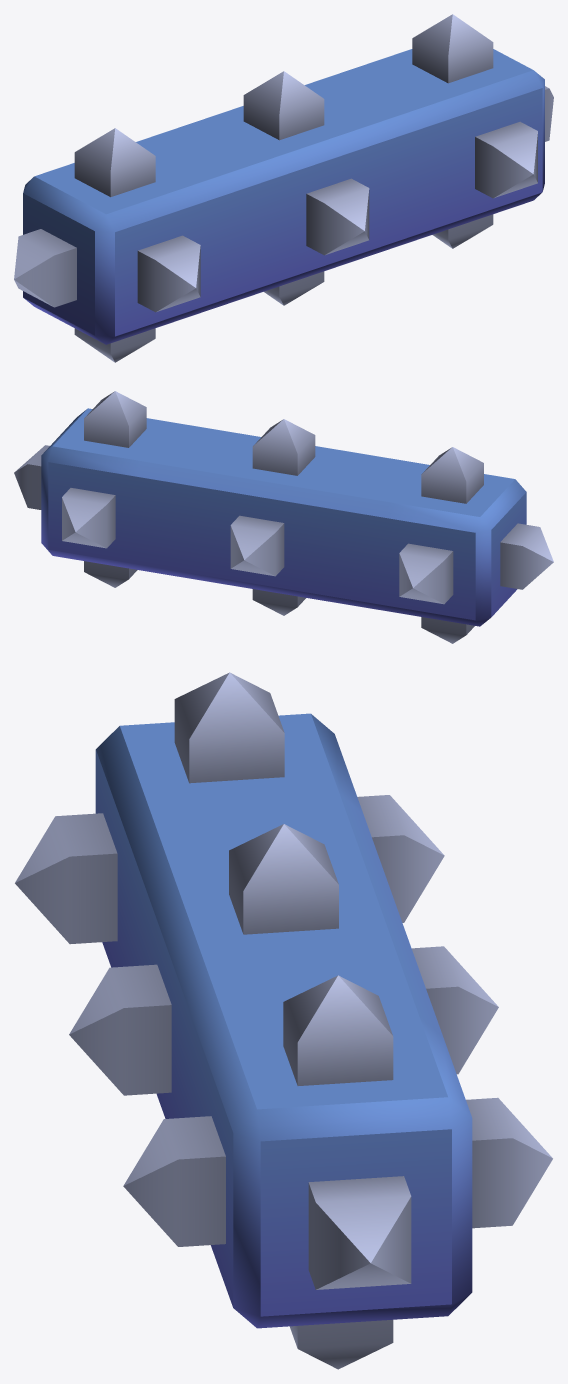
File: n5_n5_n5_spike-block-wide_lev5.004.glb
The picture shows the model from 3 angles, top to bottom: view 1: azimuth 30°, elevation 25°; view 2: azimuth 150°, elevation 25°; view 3: azimuth 270°, elevation 25°; orthographic projection. The views are drawn at different scales.
Visible parts, largest first — view 1: n5_n5_n5_spike-block-wide_lev5.004; view 2: n5_n5_n5_spike-block-wide_lev5.004; view 3: n5_n5_n5_spike-block-wide_lev5.004.
Part boxes in pixels (x1,y1,x2,y2): n5_n5_n5_spike-block-wide_lev5.004: [14, 14, 553, 362]; n5_n5_n5_spike-block-wide_lev5.004: [14, 391, 553, 643]; n5_n5_n5_spike-block-wide_lev5.004: [15, 672, 552, 1369].
Size of the model in its own units: 2.37 by 0.9 by 1.11.
Materials: 1 (1 with a texture image).
